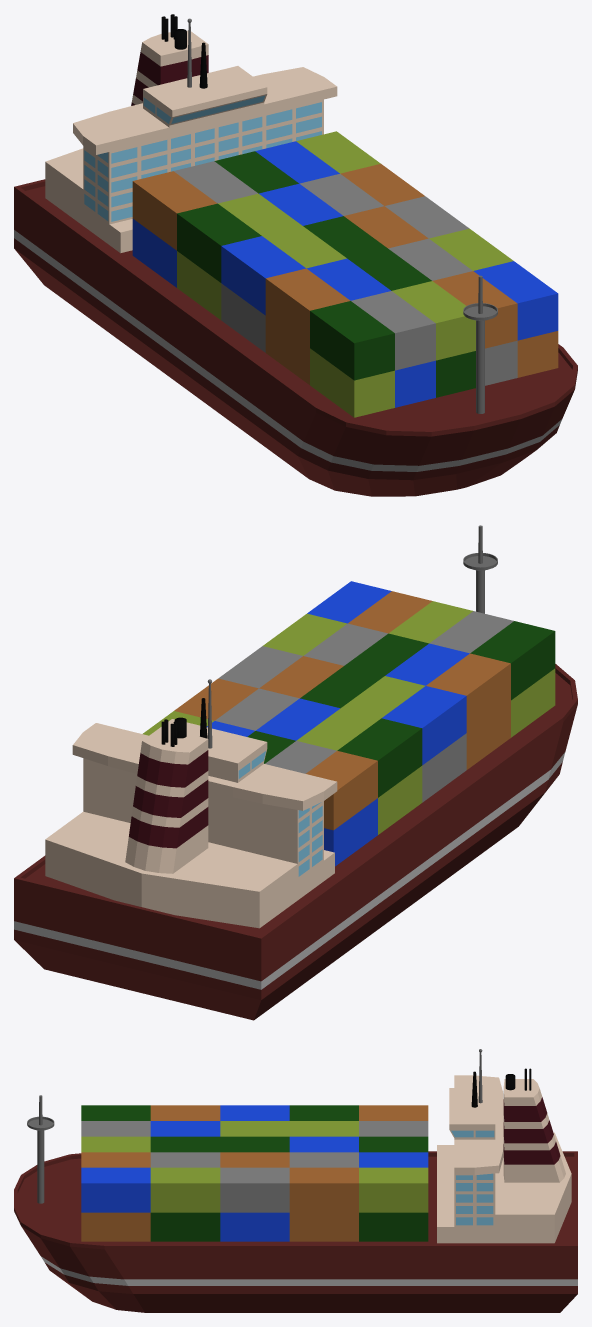
File: SHIP CONTAINER.fbx
3 renders of one model, top to bottom at view 1: azimuth 30°, elevation 25°; view 2: azimuth 150°, elevation 25°; view 3: azimuth 270°, elevation 25°, orthographic. The views are drawn at different scales.
Parts seen in each view (by area): view 1: Cube, Cube.001, Cube.032, Cube.034, Cube.035, Cube.039, Cube.042, Cube.030, Cube.031, Cube.023, Cube.028, Cube.029 (+25 smaller); view 2: Cube, Cube.001, Cube.032, Cube.042, Cube.035, Cube.034, Cube.039, Cube.005, Cube.030, Cube.031, Cube.033, Cube.037 (+18 smaller); view 3: Cube, Cube.001, Cube.033, Cube.030, Cube.047, Cube.049, Cube.050, Cube.017, Cube.010, Cube.014, Cube.007, Cube.009 (+22 smaller).
Boxes of the visible parts, x1=… form: Cube: x1=14, y1=179, x2=577, y2=496; Cube.001: x1=45, y1=14, x2=337, y2=253; Cube.032: x1=310, y1=301, x2=394, y2=380; Cube.034: x1=265, y1=268, x2=350, y2=347; Cube.035: x1=221, y1=236, x2=305, y2=315; Cube.039: x1=132, y1=171, x2=217, y2=250; Cube.042: x1=177, y1=203, x2=261, y2=282; Cube.030: x1=473, y1=261, x2=558, y2=340; Cube.031: x1=351, y1=291, x2=435, y2=370; Cube.023: x1=310, y1=348, x2=394, y2=417; Cube.028: x1=392, y1=281, x2=475, y2=360; Cube.029: x1=433, y1=271, x2=517, y2=348; Cube: x1=14, y1=664, x2=577, y2=1020; Cube.001: x1=45, y1=717, x2=337, y2=928; Cube.032: x1=470, y1=621, x2=555, y2=700; Cube.042: x1=337, y1=718, x2=422, y2=797; Cube.035: x1=382, y1=686, x2=466, y2=764; Cube.034: x1=426, y1=653, x2=510, y2=732; Cube.039: x1=306, y1=751, x2=377, y2=830; Cube.005: x1=324, y1=798, x2=377, y2=866; Cube.030: x1=307, y1=581, x2=391, y2=623; Cube.031: x1=429, y1=611, x2=513, y2=653; Cube.033: x1=263, y1=613, x2=347, y2=655; Cube.037: x1=300, y1=666, x2=384, y2=708; Cube: x1=14, y1=1151, x2=577, y2=1312; Cube.001: x1=437, y1=1068, x2=571, y2=1243; Cube.033: x1=150, y1=1167, x2=220, y2=1212; Cube.030: x1=81, y1=1167, x2=150, y2=1212; Cube.047: x1=220, y1=1167, x2=289, y2=1212; Cube.049: x1=359, y1=1167, x2=428, y2=1212; Cube.050: x1=289, y1=1167, x2=358, y2=1212; Cube.017: x1=150, y1=1212, x2=220, y2=1241; Cube.010: x1=220, y1=1212, x2=289, y2=1241; Cube.014: x1=81, y1=1212, x2=150, y2=1241; Cube.007: x1=359, y1=1212, x2=428, y2=1241; Cube.009: x1=289, y1=1212, x2=358, y2=1241.
Bounding box in the file's own units: 294 × 319 × 741.
